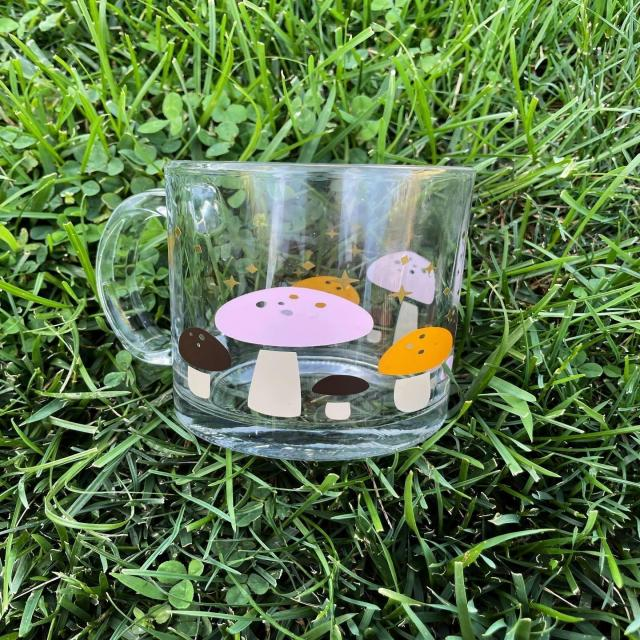glass-mug: (82, 149, 480, 465)
